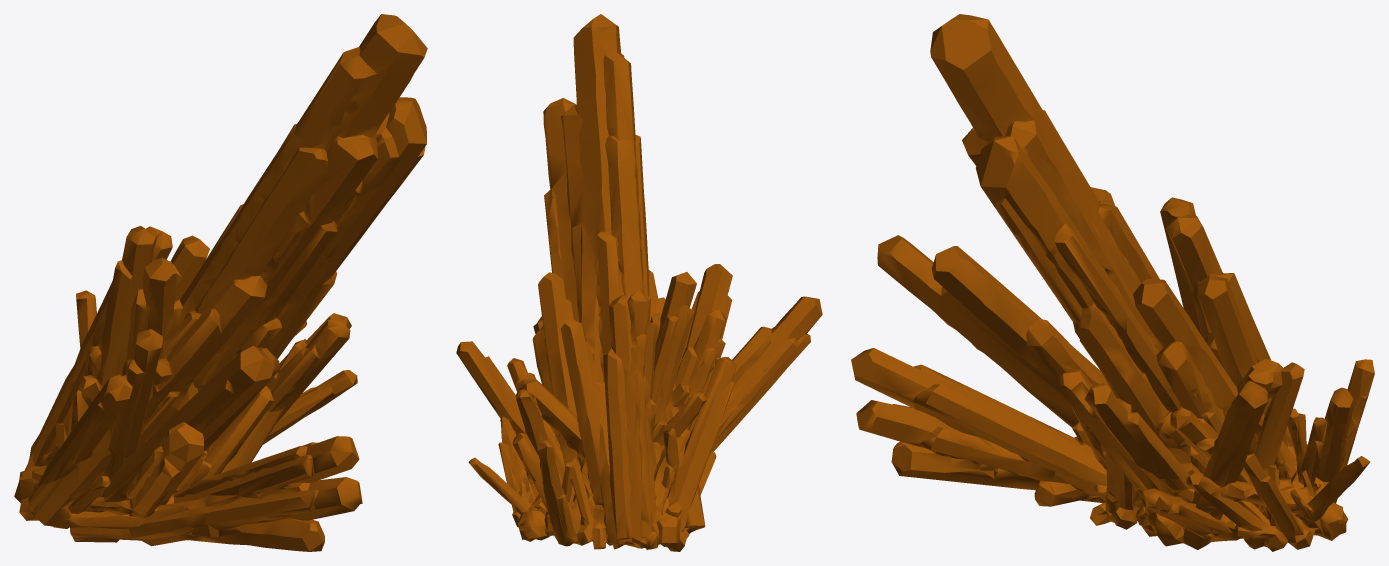
Rendered from originium_crystal_huge.obj.
3 renders of one model, left to right at view 1: azimuth 30°, elevation 25°; view 2: azimuth 150°, elevation 25°; view 3: azimuth 270°, elevation 25°, orthographic. The views are drawn at different scales.
Parts seen in each view (by area): view 1: CrystalOne_LP; view 2: CrystalOne_LP; view 3: CrystalOne_LP.
Boxes of the visible parts, x1,y1,x2,y2 form: CrystalOne_LP: (14,14,427,551); CrystalOne_LP: (456,14,822,551); CrystalOne_LP: (851,14,1374,551).
Bounding box in the file's own units: 28.3 × 47.49 × 39.18.
